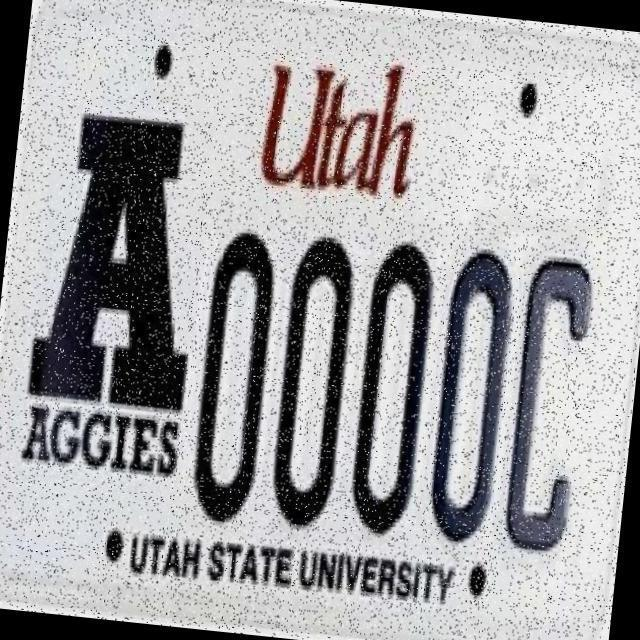License Plate: (170, 223, 602, 567)
